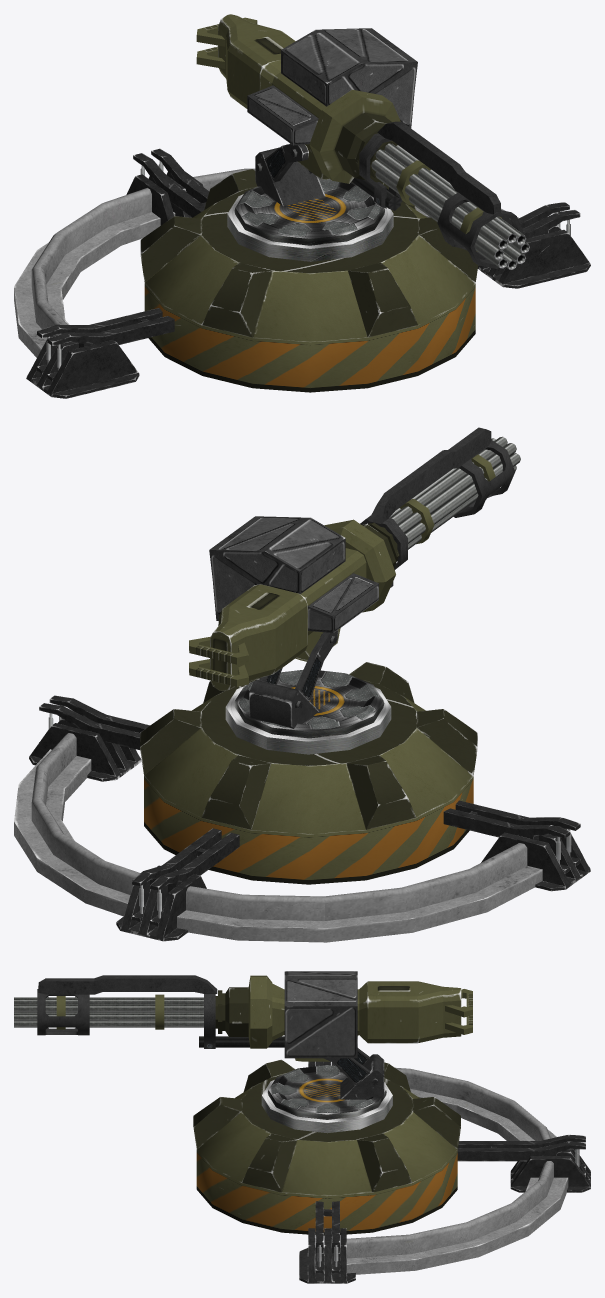
File: mini_turret_tower_02.fbx
The picture shows the model from 3 angles, top to bottom: view 1: azimuth 30°, elevation 25°; view 2: azimuth 150°, elevation 25°; view 3: azimuth 270°, elevation 25°; orthographic projection. The views are drawn at different scales.
Visible parts, largest first — view 1: body (×2), holder (×2), leg_bottom (×3), leg_arm (×3), decor2, decor (×2), barrels; view 2: body (×2), holder (×2), leg_arm (×3), leg_bottom (×3), decor (×2), decor2, barrels; view 3: body (×2), holder (×2), decor2, barrels, decor (×2), leg_bottom (×2), leg_arm (×2).
Boxes of the visible parts, left/top/right/bottom form: body (×2): left=140, top=14, right=478, bottom=392; holder (×2): left=14, top=168, right=518, bottom=357; leg_bottom (×3): left=26, top=171, right=590, bottom=398; leg_arm (×3): left=37, top=148, right=580, bottom=381; decor2: left=351, top=121, right=524, bottom=268; decor (×2): left=227, top=144, right=393, bottom=261; barrels: left=371, top=143, right=529, bottom=269; body (×2): left=140, top=516, right=477, bottom=884; holder (×2): left=14, top=670, right=542, bottom=942; leg_arm (×3): left=39, top=695, right=580, bottom=926; leg_bottom (×3): left=29, top=718, right=590, bottom=941; decor (×2): left=225, top=630, right=391, bottom=754; decor2: left=360, top=427, right=514, bottom=587; barrels: left=389, top=436, right=520, bottom=549; body (×2): left=193, top=971, right=472, bottom=1235; holder (×2): left=268, top=1065, right=568, bottom=1274; decor2: left=37, top=975, right=284, bottom=1048; barrels: left=14, top=994, right=203, bottom=1029; decor (×2): left=261, top=1048, right=392, bottom=1133; leg_bottom (×2): left=299, top=1149, right=590, bottom=1283; leg_arm (×2): left=315, top=1134, right=585, bottom=1273.
Bounding box in the file's own units: 7.52 × 3.63 × 8.83.
